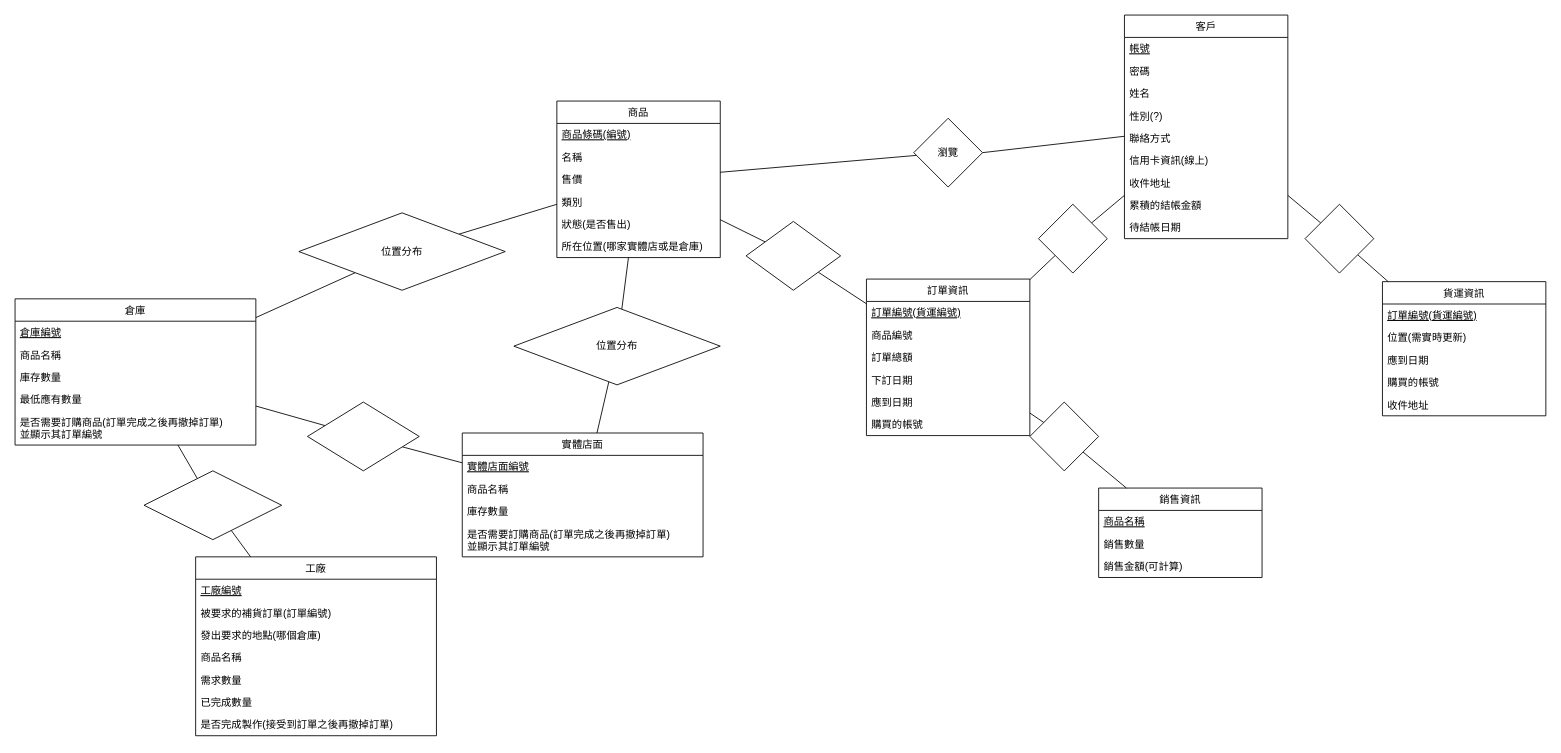
This 1561x753 diagram has some shape labels left out. The centre of each missing label's shape, as x and y in pixels:
"出售(更改狀態)" belongs at (793,255).
"查詢" belongs at (1339,238).
"業績結算" belongs at (1064,436).
"消費" belongs at (1072,238).
"補貨請求" belongs at (212,505).
"調貨" belongs at (363,436).
